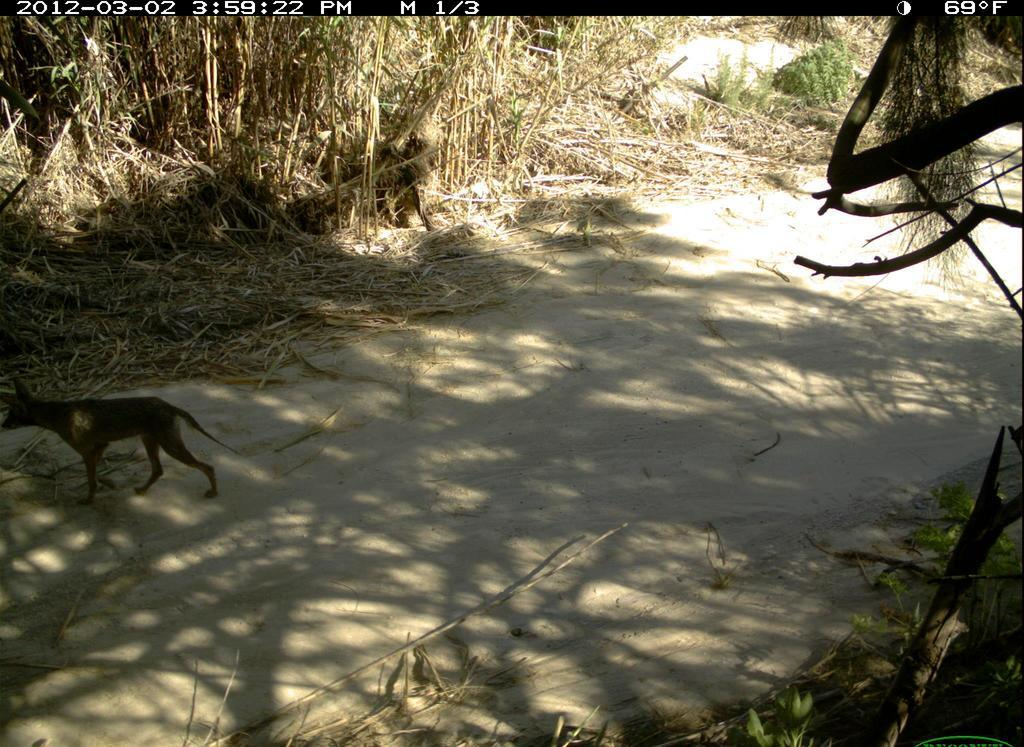coyote: (1, 369, 248, 514)
